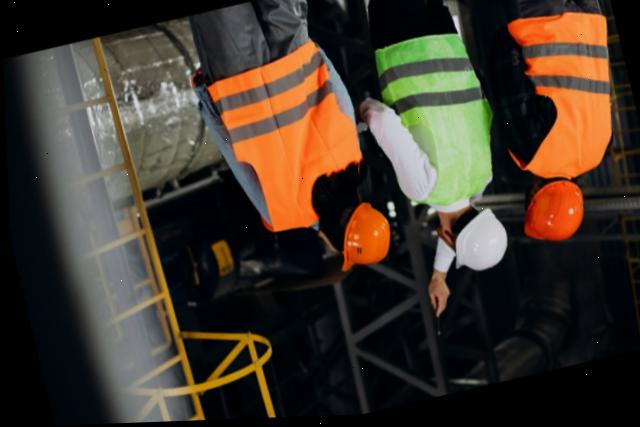helmet: (509, 179, 592, 254), (323, 198, 399, 278), (442, 205, 512, 282)
vest: (195, 36, 379, 247), (478, 4, 640, 200), (358, 25, 516, 220)
